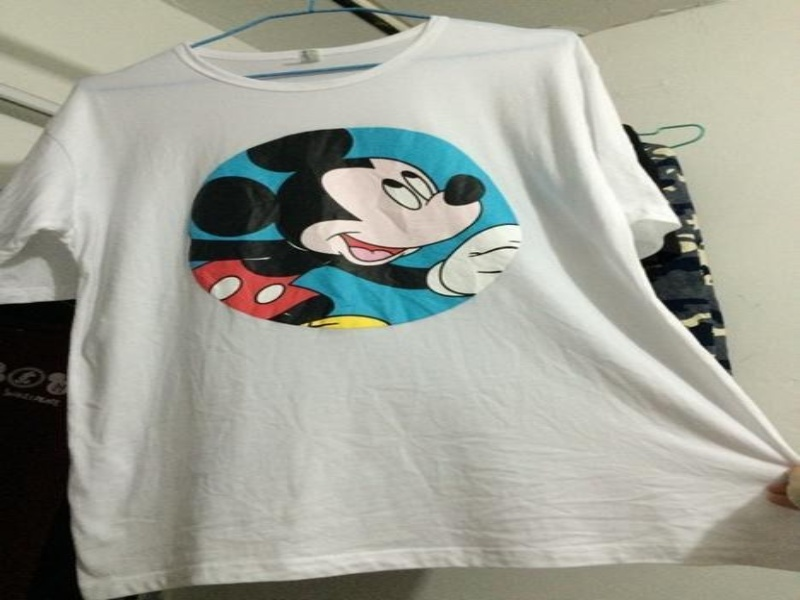short_sleeved_shirt: (0, 14, 798, 599)
